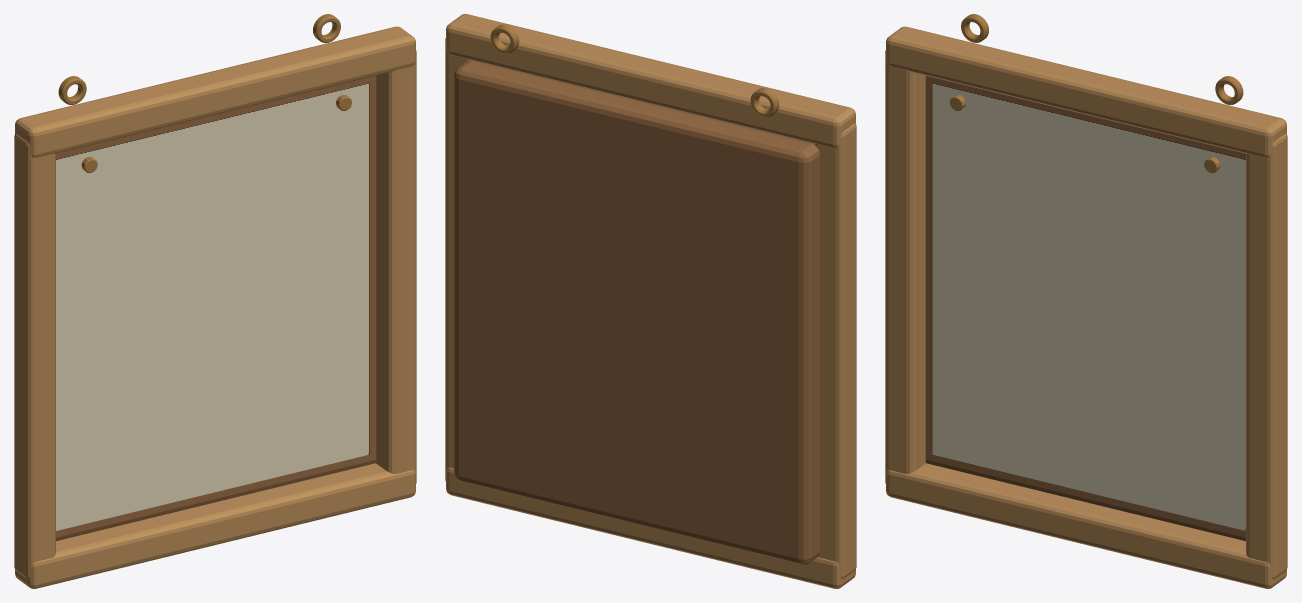
The model's file is JOB_BOARD.hi.glb.
The picture shows the model from 3 angles, left to right: view 1: azimuth 30°, elevation 25°; view 2: azimuth 150°, elevation 25°; view 3: azimuth 330°, elevation 25°; orthographic projection. The views are drawn at different scales.
Visible parts, largest first — view 1: Body_Mesh; view 2: Body_Mesh; view 3: Body_Mesh.
Boxes of the visible parts, box(x1,y1,x2,y2) form: Body_Mesh: box(14, 14, 416, 588); Body_Mesh: box(445, 14, 856, 588); Body_Mesh: box(885, 14, 1287, 588).
Bounding box in the file's own units: 1.32 × 1.55 × 0.182.
1 material, 1 textured.
